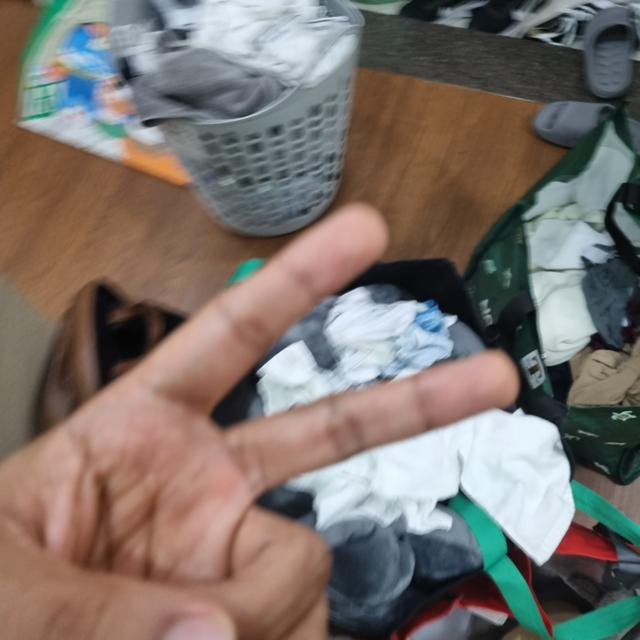Scissors: (0, 202, 523, 639)
